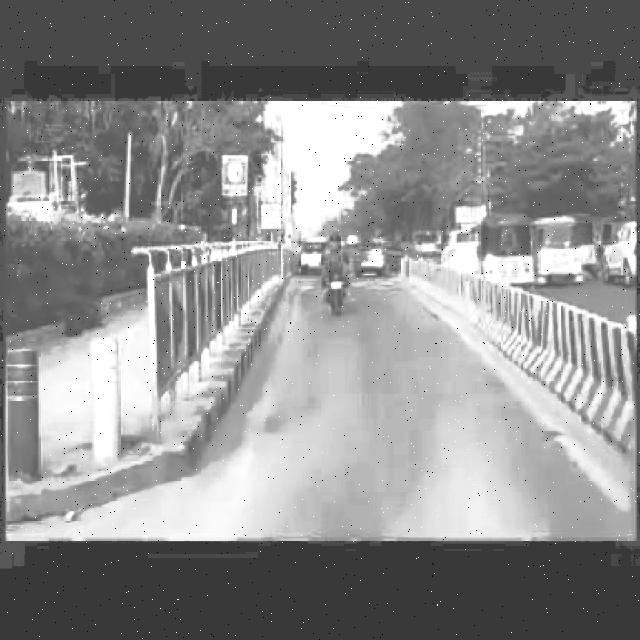Car: (602, 217, 638, 284), (350, 235, 394, 280), (442, 229, 476, 280), (297, 236, 324, 276)
